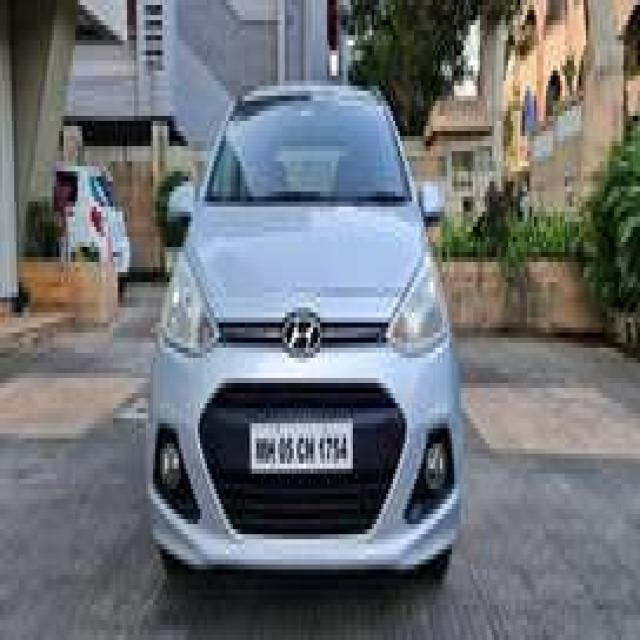licenseplate: (239, 408, 359, 492)
